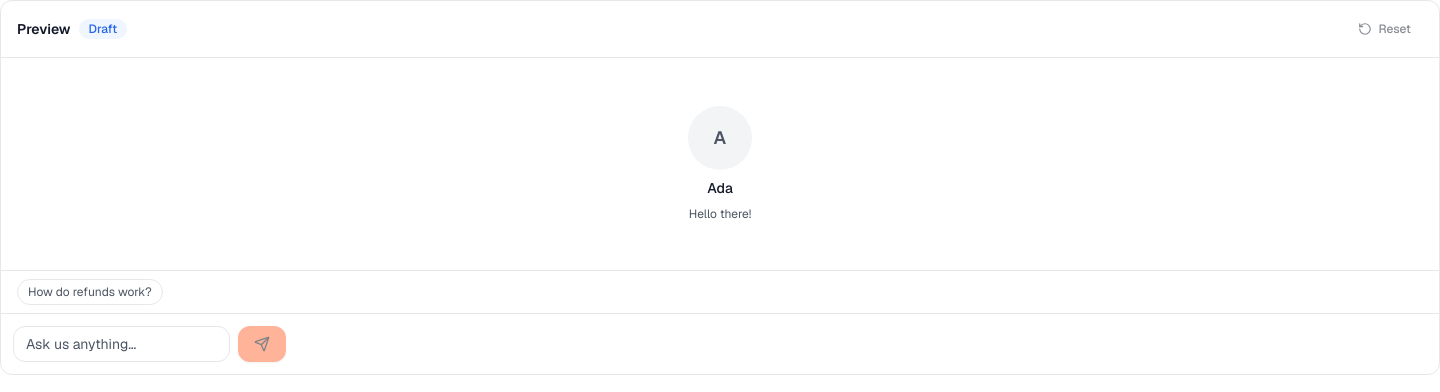
Test: PreviewPanel › fills the input from a suggested-question chip
Click the button "How do refunds work?" at (90, 292), box [17, 279, 163, 305]
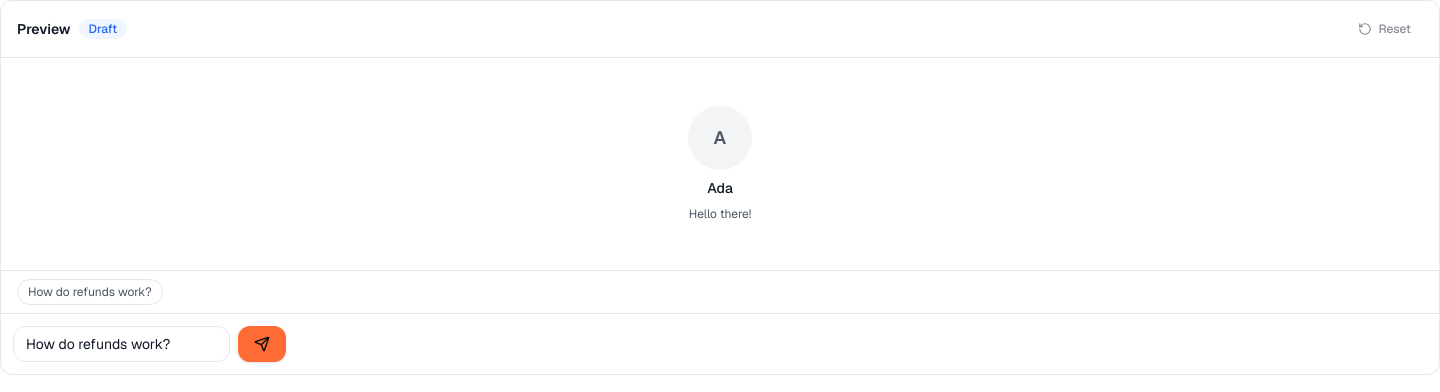
Expected: the field named "Preview message" holds "How do refunds work?", [13, 326, 230, 362]
